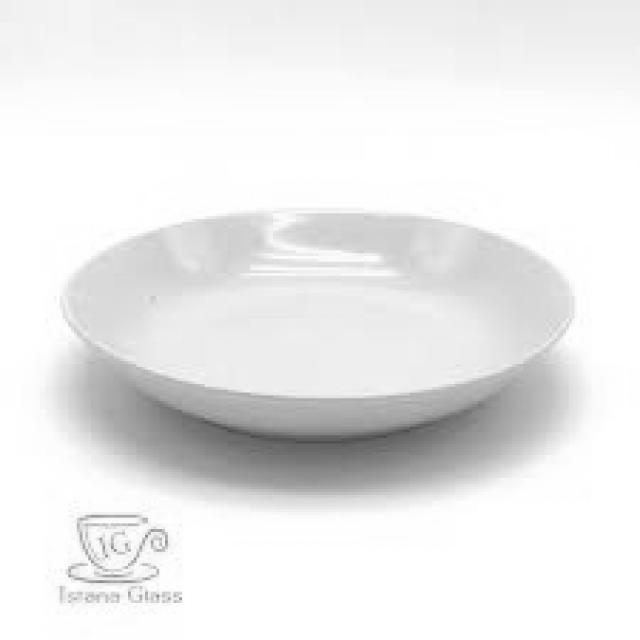dish: (47, 154, 602, 442)
